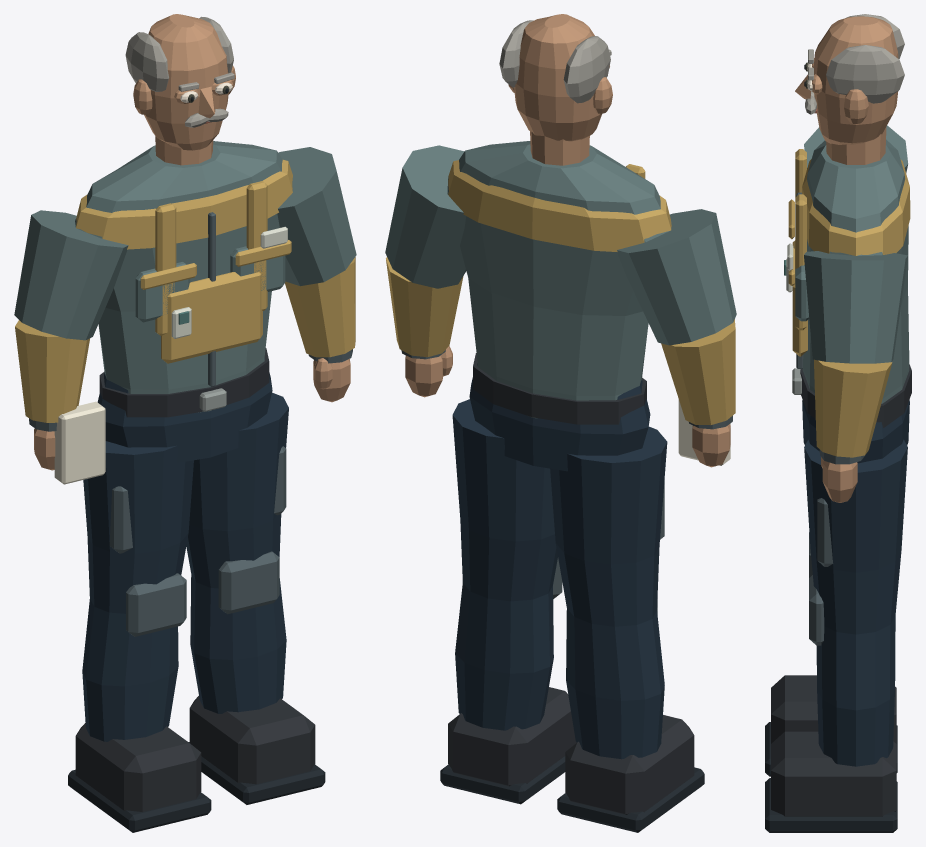
The model's file is Kemal.glb.
The picture shows the model from 3 angles, left to right: view 1: azimuth 30°, elevation 25°; view 2: azimuth 150°, elevation 25°; view 3: azimuth 270°, elevation 25°; orthographic projection. The views are drawn at different scales.
Visible parts, largest first — view 1: Kemal; view 2: Kemal; view 3: Kemal.
Boxes of the visible parts, bbox=[...] form: Kemal: bbox=[14, 14, 356, 832]; Kemal: bbox=[385, 14, 736, 832]; Kemal: bbox=[765, 14, 911, 832].
Size of the model in its own units: 0.7692 by 1.68 by 0.2918.
